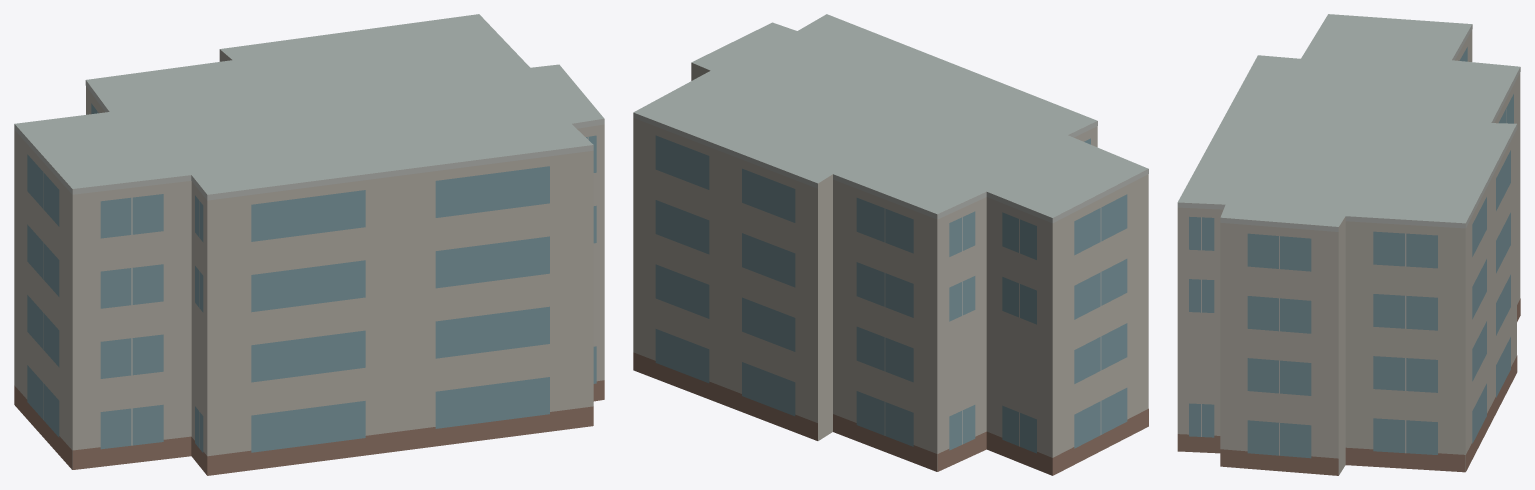
File: survey-upis-32681692.glb
3 views of the same model, side by side, from view 1: azimuth 30°, elevation 25°; view 2: azimuth 150°, elevation 25°; view 3: azimuth 270°, elevation 25° (orthographic). The views are drawn at different scales.
Parts seen in each view (by area): view 1: survey-upis-32681692.tmp; view 2: survey-upis-32681692.tmp; view 3: survey-upis-32681692.tmp.
Boxes of the visible parts, bbox=[...] form: survey-upis-32681692.tmp: bbox=[14, 14, 604, 475]; survey-upis-32681692.tmp: bbox=[633, 14, 1148, 475]; survey-upis-32681692.tmp: bbox=[1177, 14, 1520, 475].
Bounding box in the file's own units: 21.85 × 11.9 × 14.87.
